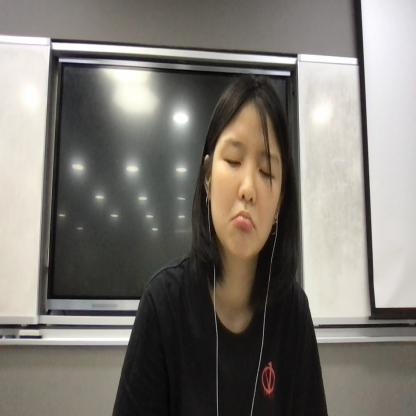sad: (209, 122, 286, 264)
